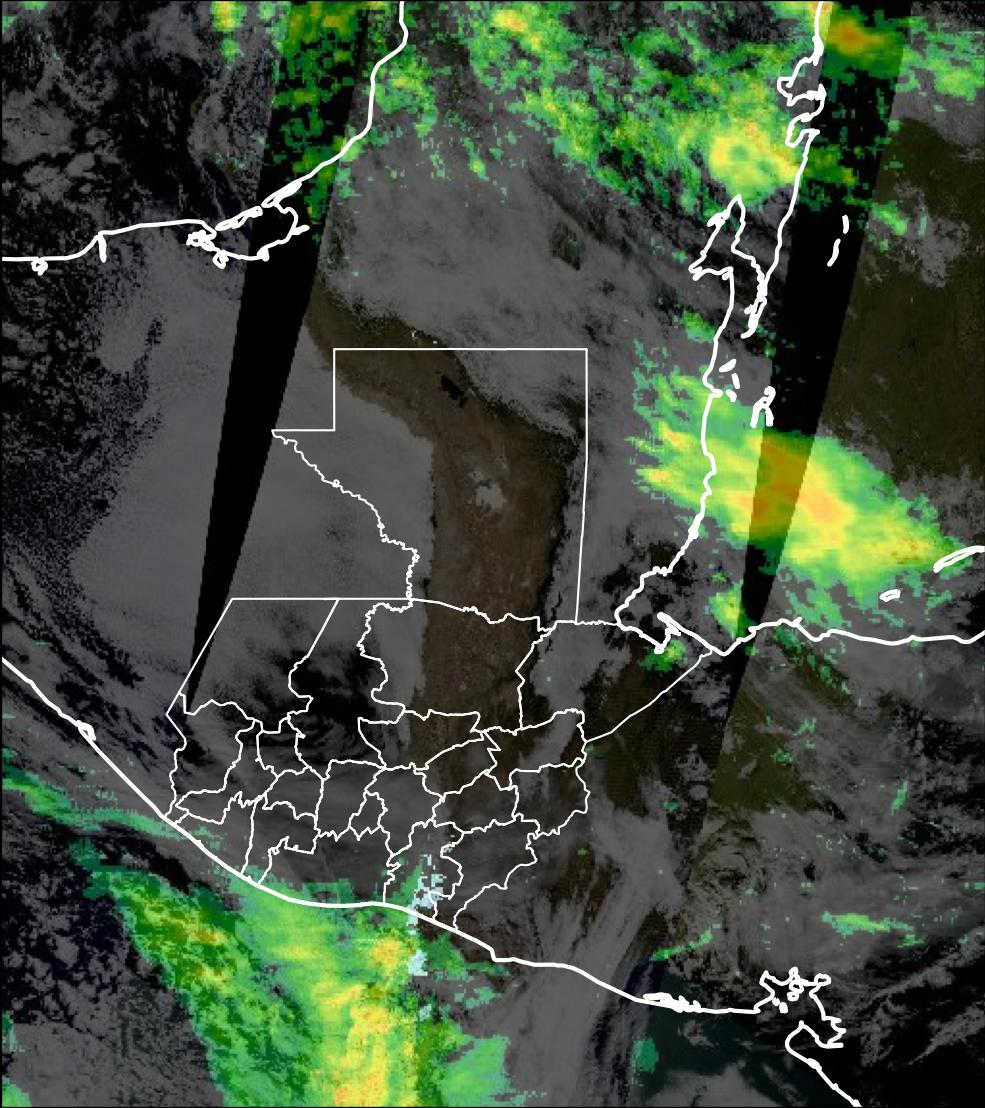precipitacion: (744, 466, 845, 541)
